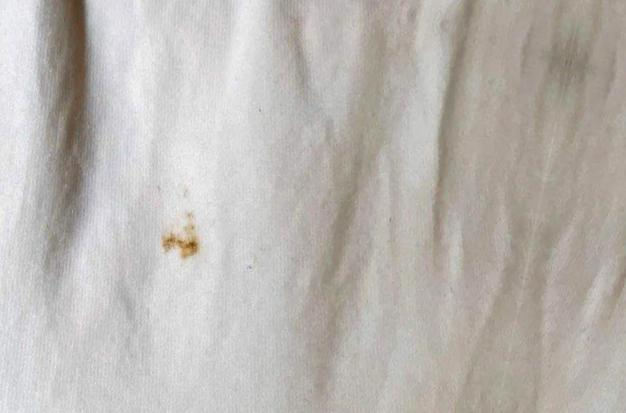stain: (157, 208, 206, 263)
